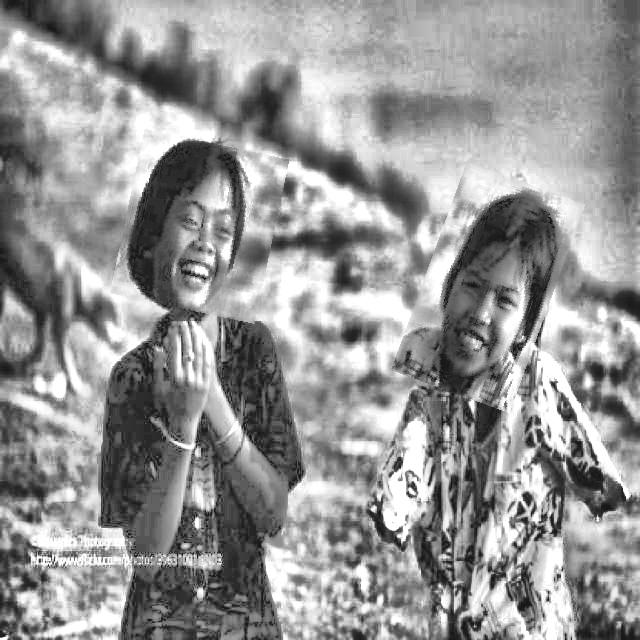happy: (408, 170, 568, 406), (118, 136, 282, 318)
